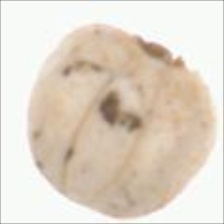L5: (59, 64, 158, 202), (121, 30, 191, 72)
L6: (24, 23, 219, 220)
